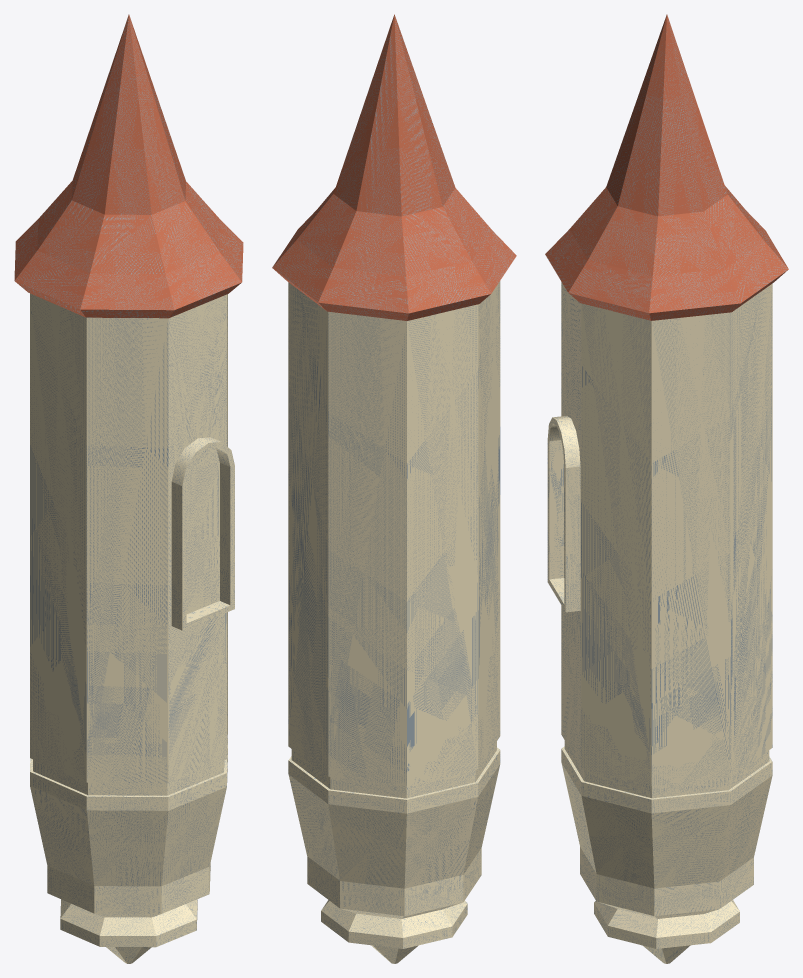
File: Tower4.fbx
3 views of the same model, side by side, from view 1: azimuth 30°, elevation 25°; view 2: azimuth 150°, elevation 25°; view 3: azimuth 270°, elevation 25° (orthographic).
Parts seen in each view (by area): view 1: Group3, Group2; view 2: Group3, Group2; view 3: Group3, Group2.
Part boxes in pixels (x1,y1,x2,y2): Group3: (30,293,234,963); Group2: (14,14,243,318); Group3: (288,281,500,963); Group2: (272,14,516,320); Group3: (547,282,772,963); Group2: (545,14,788,320).
Bounding box in the file's own units: 800 × 3432 × 800.
